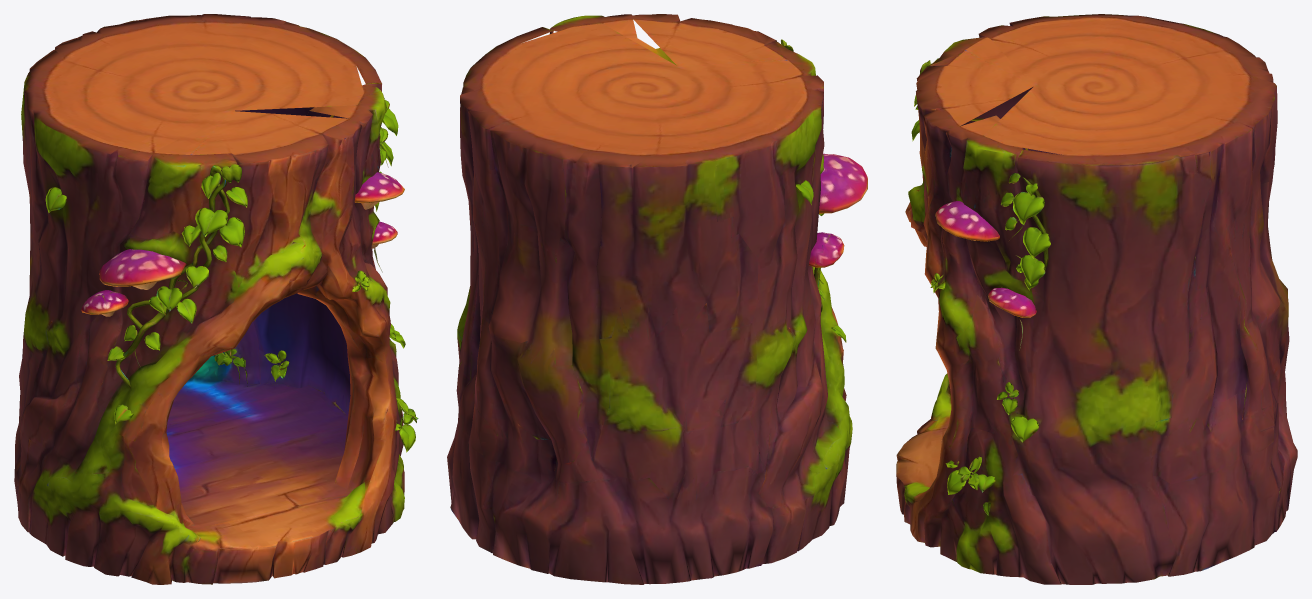
File: tree_trunk_hollow.glb
The picture shows the model from 3 angles, left to right: view 1: azimuth 30°, elevation 25°; view 2: azimuth 150°, elevation 25°; view 3: azimuth 270°, elevation 25°; orthographic projection.
Size of what is drawn, in the model's own units: 0.8646 by 1 by 0.8749.
Materials: 1 (1 with a texture image).
